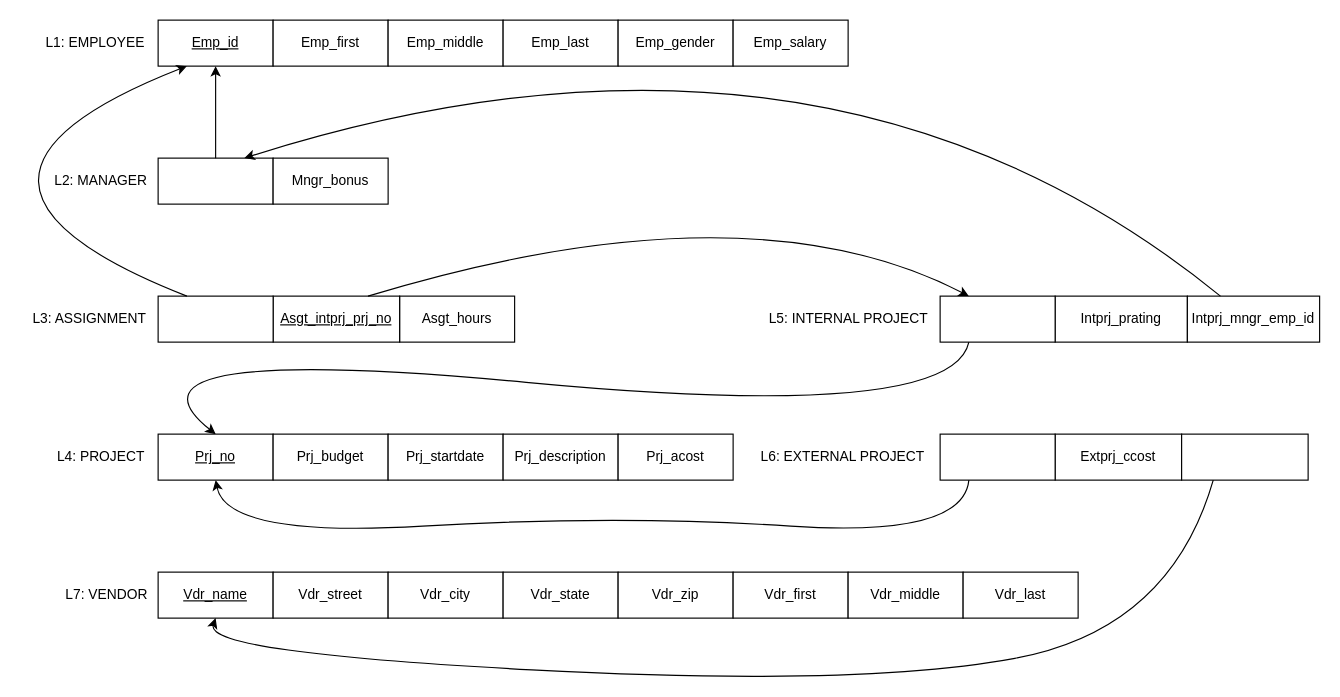
Image size: 1340x697. Some labels were removed from this diagram. Here are the shapes that lost their labels. From the top down, the centre of each, then its label:
At pixel 215 180: "Mngr_emp_id".
At pixel 215 318: "Asgt_emp_id".
At pixel 997 318: "Intprj_prj_no".
At pixel 997 456: "Extprj_prj_no".
At pixel 1244 456: "Extprj_vdr_name".
